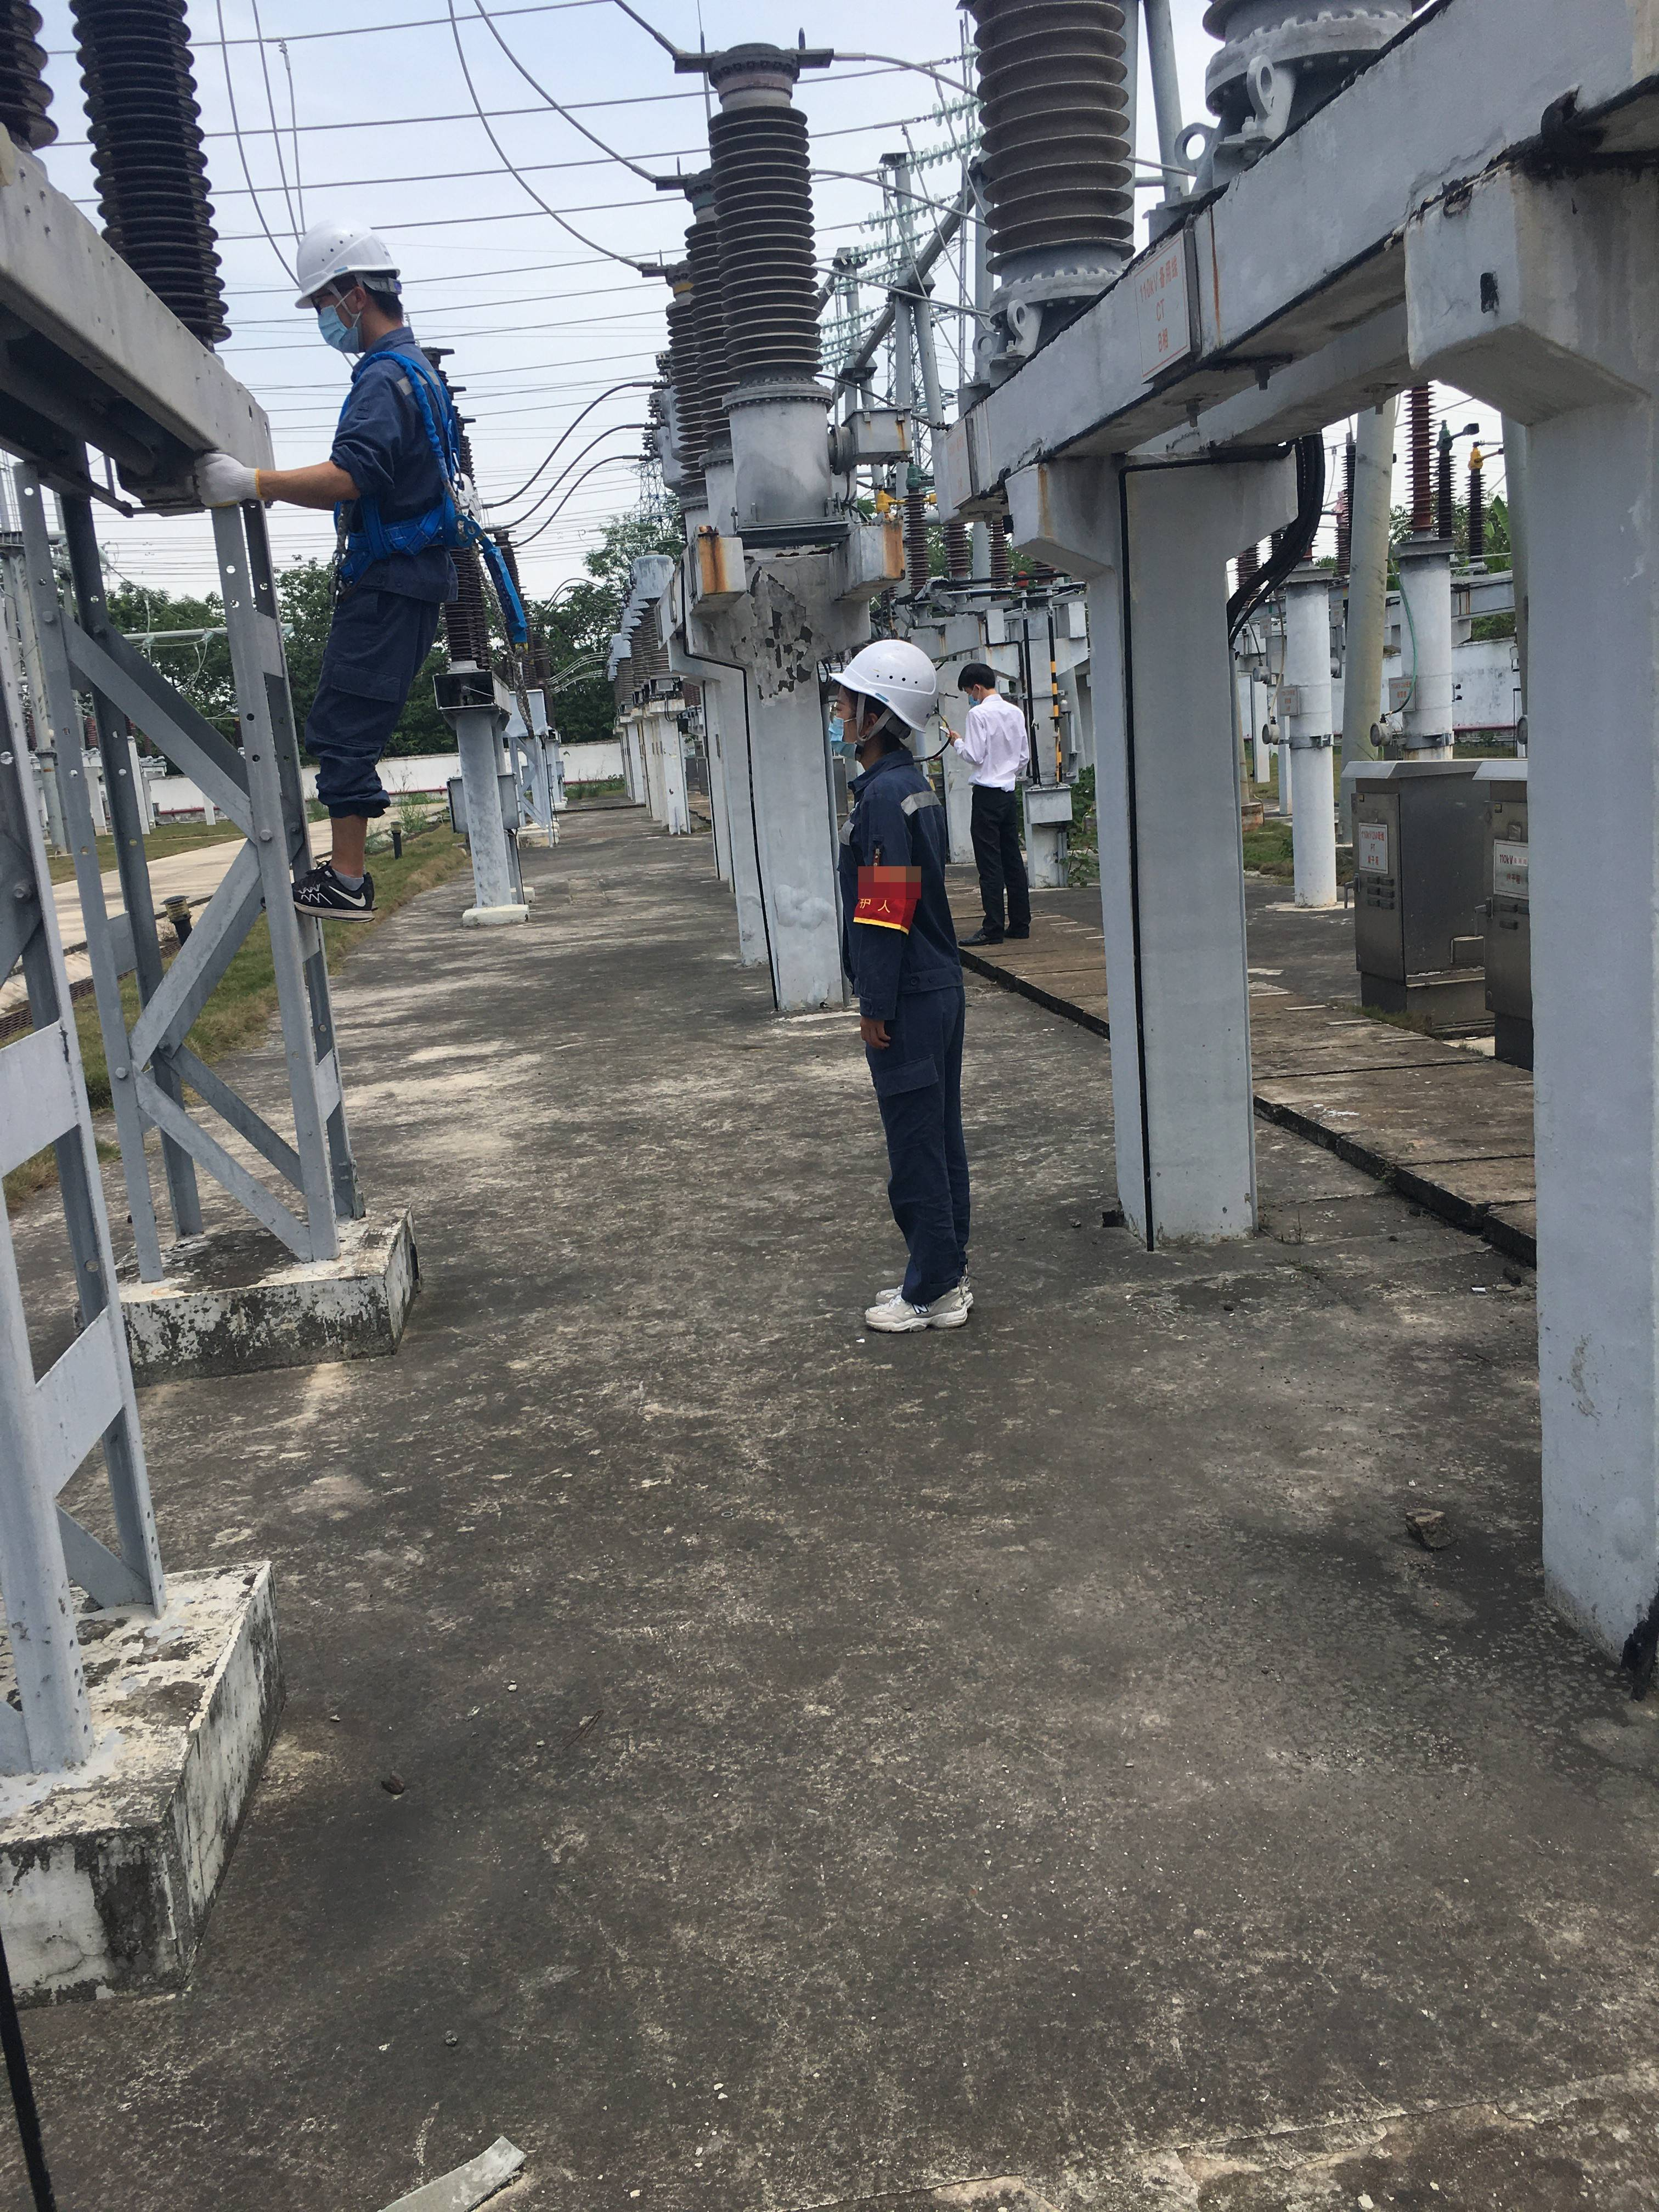downcloth: (976, 796, 1030, 918)
downsuit: (866, 1021, 990, 1296), (312, 601, 444, 817)
upcloth: (967, 704, 1025, 787)
upsuit: (310, 334, 500, 585), (835, 756, 965, 1001)
wrongbottom: (310, 792, 390, 900)
wrongtop: (221, 455, 399, 517)
